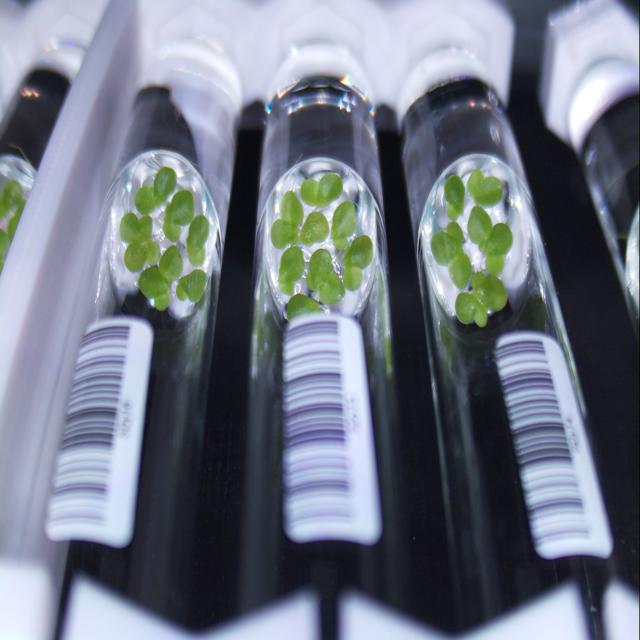Lemna-Gibba: (468, 205, 512, 275), (138, 245, 182, 310), (455, 272, 506, 327), (430, 222, 471, 289), (119, 212, 160, 270), (306, 248, 345, 305), (270, 190, 304, 248), (135, 167, 176, 213), (162, 190, 195, 242), (342, 235, 372, 290), (300, 173, 342, 207), (468, 168, 504, 207), (279, 245, 305, 295), (331, 200, 358, 248), (186, 215, 210, 265), (176, 269, 208, 302), (299, 212, 329, 245), (444, 175, 465, 220), (286, 294, 322, 320)
